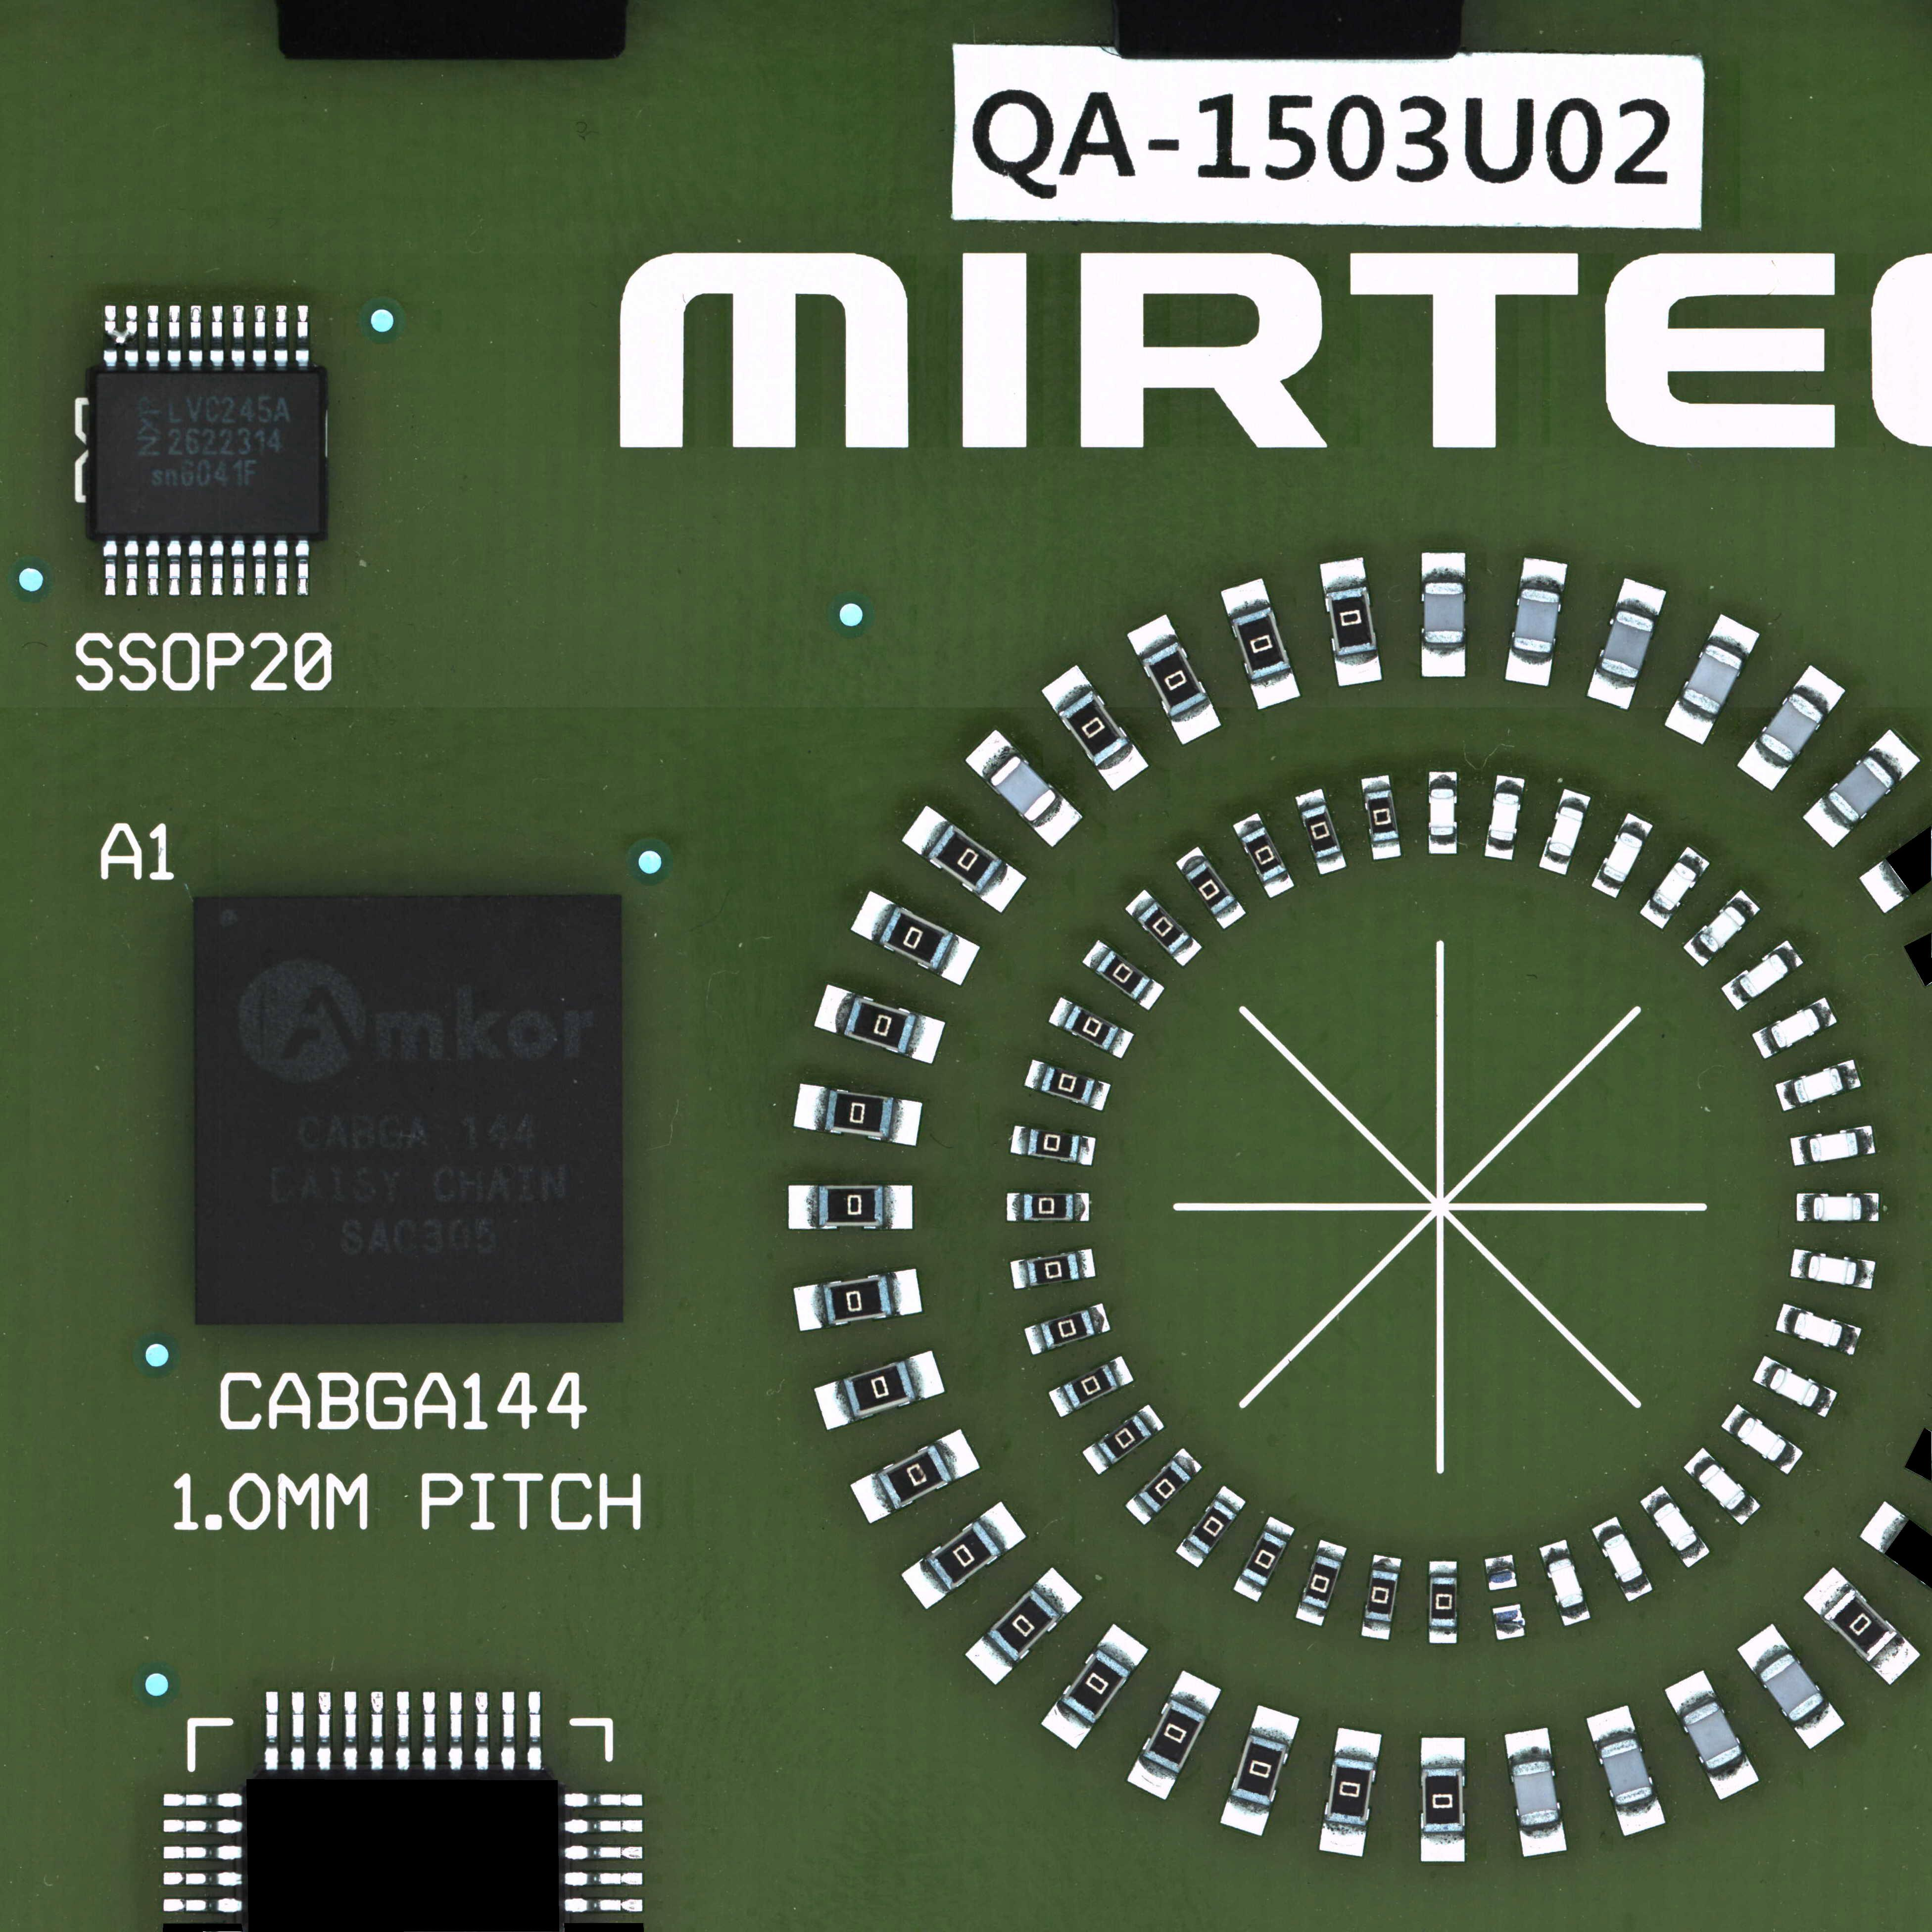Package: (193, 897, 623, 1323), (91, 370, 322, 534), (986, 1588, 1063, 1663), (1058, 690, 1130, 767), (1824, 1588, 1898, 1662), (1060, 1648, 1132, 1724), (926, 1520, 1003, 1591), (927, 824, 1002, 894), (1141, 641, 1207, 719), (877, 1445, 953, 1510), (879, 906, 955, 971), (1142, 1700, 1207, 1774), (1758, 692, 1825, 764), (1758, 1653, 1825, 1724), (1682, 642, 1745, 716), (989, 755, 1058, 822), (1827, 756, 1895, 823), (1231, 607, 1291, 681), (1681, 1700, 1744, 1771), (843, 1360, 917, 1418), (1231, 1734, 1288, 1806), (844, 998, 916, 1053), (1599, 609, 1655, 680), (1599, 1737, 1654, 1806), (1326, 586, 1378, 657), (824, 1089, 894, 1138), (1510, 1759, 1560, 1827), (1327, 1757, 1375, 1827), (823, 1276, 892, 1325), (1512, 587, 1562, 655), (1096, 1414, 1153, 1465), (1185, 1499, 1237, 1555), (1138, 1459, 1192, 1513), (1697, 903, 1750, 956), (821, 1184, 883, 1227), (1241, 1530, 1288, 1587), (1422, 1769, 1463, 1833), (1423, 580, 1464, 644), (1186, 861, 1235, 915), (1096, 950, 1150, 999), (1139, 903, 1190, 954), (1063, 1364, 1118, 1409), (1766, 1007, 1822, 1052), (1650, 860, 1698, 912), (1241, 827, 1287, 882), (1738, 952, 1790, 1000), (1064, 1006, 1119, 1050), (1601, 830, 1645, 884), (1697, 1462, 1747, 1510), (1737, 1416, 1787, 1462), (1652, 1502, 1697, 1552), (1040, 1065, 1095, 1106), (1040, 1309, 1096, 1350), (1301, 1554, 1342, 1610), (1545, 804, 1585, 860), (1791, 1064, 1847, 1105), (1769, 1366, 1822, 1408), (1602, 1533, 1644, 1583), (1302, 805, 1342, 858), (1791, 1311, 1845, 1348), (1026, 1253, 1080, 1287), (1548, 1558, 1585, 1608), (1364, 1569, 1399, 1622), (1365, 790, 1399, 843), (1028, 1129, 1080, 1162), (1489, 790, 1522, 842), (1807, 1254, 1859, 1286), (1808, 1131, 1859, 1162), (1429, 1576, 1457, 1627), (1024, 1194, 1073, 1221), (1429, 788, 1457, 835), (1813, 1196, 1861, 1221)
Solder: (1866, 729, 1922, 784), (964, 729, 1018, 783), (1737, 739, 1792, 792), (1801, 794, 1856, 848), (901, 805, 954, 860), (1030, 794, 1084, 848), (1868, 1632, 1921, 1686), (1858, 1500, 1910, 1554), (1858, 860, 1911, 913), (1791, 664, 1846, 716), (1736, 1623, 1791, 1674), (1791, 1699, 1846, 1750), (1040, 1699, 1094, 1750), (964, 1634, 1016, 1686), (1032, 1566, 1084, 1617), (900, 1557, 950, 1610), (1041, 665, 1094, 715), (1096, 742, 1149, 792), (1663, 697, 1718, 745), (1096, 1623, 1150, 1672), (1705, 1753, 1760, 1801), (1802, 1567, 1854, 1618), (978, 860, 1027, 914), (978, 1501, 1027, 1553), (1663, 1670, 1717, 1718), (1706, 613, 1761, 661), (933, 1429, 981, 1481), (1126, 614, 1179, 662), (850, 891, 898, 943), (1169, 699, 1222, 746), (849, 1471, 896, 1524), (1126, 1754, 1179, 1801), (1169, 1669, 1222, 1715), (1614, 578, 1667, 622), (936, 934, 981, 986), (813, 984, 857, 1036), (1586, 667, 1639, 710), (1586, 1704, 1637, 1749), (904, 1013, 947, 1065), (1250, 667, 1301, 710), (1614, 1794, 1666, 1836), (1221, 578, 1272, 621), (814, 1379, 856, 1431), (904, 1350, 946, 1401), (1220, 1795, 1271, 1836), (1249, 1705, 1300, 1746), (1505, 648, 1553, 687), (1518, 1820, 1567, 1858), (792, 1083, 830, 1132), (1519, 556, 1568, 593), (1319, 1820, 1367, 1857), (1334, 1726, 1382, 1763), (1504, 1728, 1552, 1764), (1335, 650, 1383, 686), (1320, 557, 1368, 592), (886, 1269, 922, 1316), (888, 1097, 923, 1147), (887, 1096, 922, 1146), (793, 1284, 828, 1332), (1422, 644, 1466, 677), (1420, 1737, 1465, 1769), (162, 1896, 242, 1914), (161, 1817, 242, 1834), (162, 1870, 242, 1887), (162, 1843, 242, 1860), (162, 1792, 242, 1809), (883, 1184, 913, 1229), (290, 1690, 306, 1771), (395, 1690, 411, 1770), (474, 1690, 490, 1770), (526, 1690, 542, 1770), (790, 1185, 819, 1230), (564, 1792, 645, 1808), (264, 1690, 280, 1771), (369, 1690, 385, 1770), (448, 1690, 464, 1770), (564, 1871, 645, 1887), (564, 1897, 645, 1913), (343, 1690, 359, 1770), (317, 1690, 333, 1770), (421, 1690, 437, 1771), (500, 1690, 516, 1770), (1421, 1833, 1465, 1862), (563, 1819, 644, 1835), (565, 1844, 645, 1860), (1421, 553, 1465, 581), (1682, 1448, 1716, 1481), (1124, 1494, 1157, 1526), (1639, 899, 1674, 929), (1682, 935, 1715, 967), (1124, 888, 1157, 920), (1721, 978, 1752, 1012), (1774, 1442, 1804, 1476), (102, 305, 118, 372), (1135, 978, 1165, 1012), (1171, 1447, 1203, 1479), (1729, 1495, 1761, 1526), (1170, 936, 1203, 967), (1678, 1538, 1711, 1568), (1213, 899, 1247, 929), (1678, 846, 1711, 876), (1730, 889, 1761, 921), (1082, 1443, 1112, 1475), (1640, 1485, 1672, 1515), (1721, 1403, 1751, 1436), (1081, 939, 1111, 971), (1213, 1484, 1246, 1514), (188, 305, 203, 372), (209, 305, 224, 372), (1775, 940, 1804, 973), (1175, 1539, 1207, 1568), (1175, 846, 1207, 876), (1137, 1404, 1166, 1436), (1620, 1573, 1653, 1602), (1591, 1516, 1625, 1545), (1231, 812, 1265, 840), (1621, 813, 1653, 841), (1047, 996, 1075, 1029), (1752, 1355, 1780, 1389), (167, 305, 181, 372), (1233, 1575, 1266, 1602), (1810, 998, 1838, 1031), (231, 305, 245, 371), (295, 305, 309, 371), (274, 305, 288, 371), (1262, 870, 1295, 899), (1107, 1355, 1134, 1389), (1810, 1385, 1837, 1418), (295, 536, 310, 596), (1107, 1027, 1134, 1060), (125, 305, 138, 371), (1048, 1385, 1075, 1418), (1751, 1028, 1778, 1061), (1591, 872, 1624, 898), (1087, 1303, 1112, 1336), (146, 305, 159, 371), (253, 305, 266, 371), (1262, 1516, 1295, 1543), (1539, 1540, 1571, 1566), (189, 536, 202, 597), (1775, 1078, 1800, 1111), (274, 536, 288, 596), (167, 536, 181, 597), (145, 536, 159, 597), (252, 536, 266, 596), (231, 536, 245, 596), (210, 536, 224, 596), (1023, 1059, 1049, 1091), (1559, 1601, 1592, 1627), (1837, 1323, 1862, 1355), (1024, 1323, 1049, 1356), (125, 536, 138, 597), (103, 536, 117, 597), (1539, 851, 1571, 876), (1086, 1079, 1111, 1111), (1315, 850, 1348, 875), (1296, 1601, 1327, 1627), (1295, 788, 1326, 813), (1775, 1303, 1799, 1335), (1838, 1059, 1862, 1091), (1315, 1539, 1347, 1563), (1558, 789, 1590, 813), (1789, 1249, 1812, 1280), (1010, 1125, 1032, 1156), (1789, 1136, 1812, 1166), (1076, 1248, 1097, 1280), (1855, 1259, 1877, 1290), (1361, 1619, 1392, 1640), (1485, 838, 1516, 860), (1371, 839, 1401, 860), (1495, 774, 1526, 795), (1855, 1126, 1876, 1156), (1010, 1259, 1030, 1289), (1076, 1135, 1096, 1166), (1371, 1554, 1402, 1574), (1361, 775, 1391, 793), (1862, 1193, 1879, 1221), (1429, 1627, 1457, 1644), (1429, 836, 1456, 854), (1007, 1193, 1024, 1221), (1429, 772, 1457, 788), (1797, 1193, 1813, 1221), (1073, 1192, 1089, 1220), (1429, 1561, 1457, 1577)
